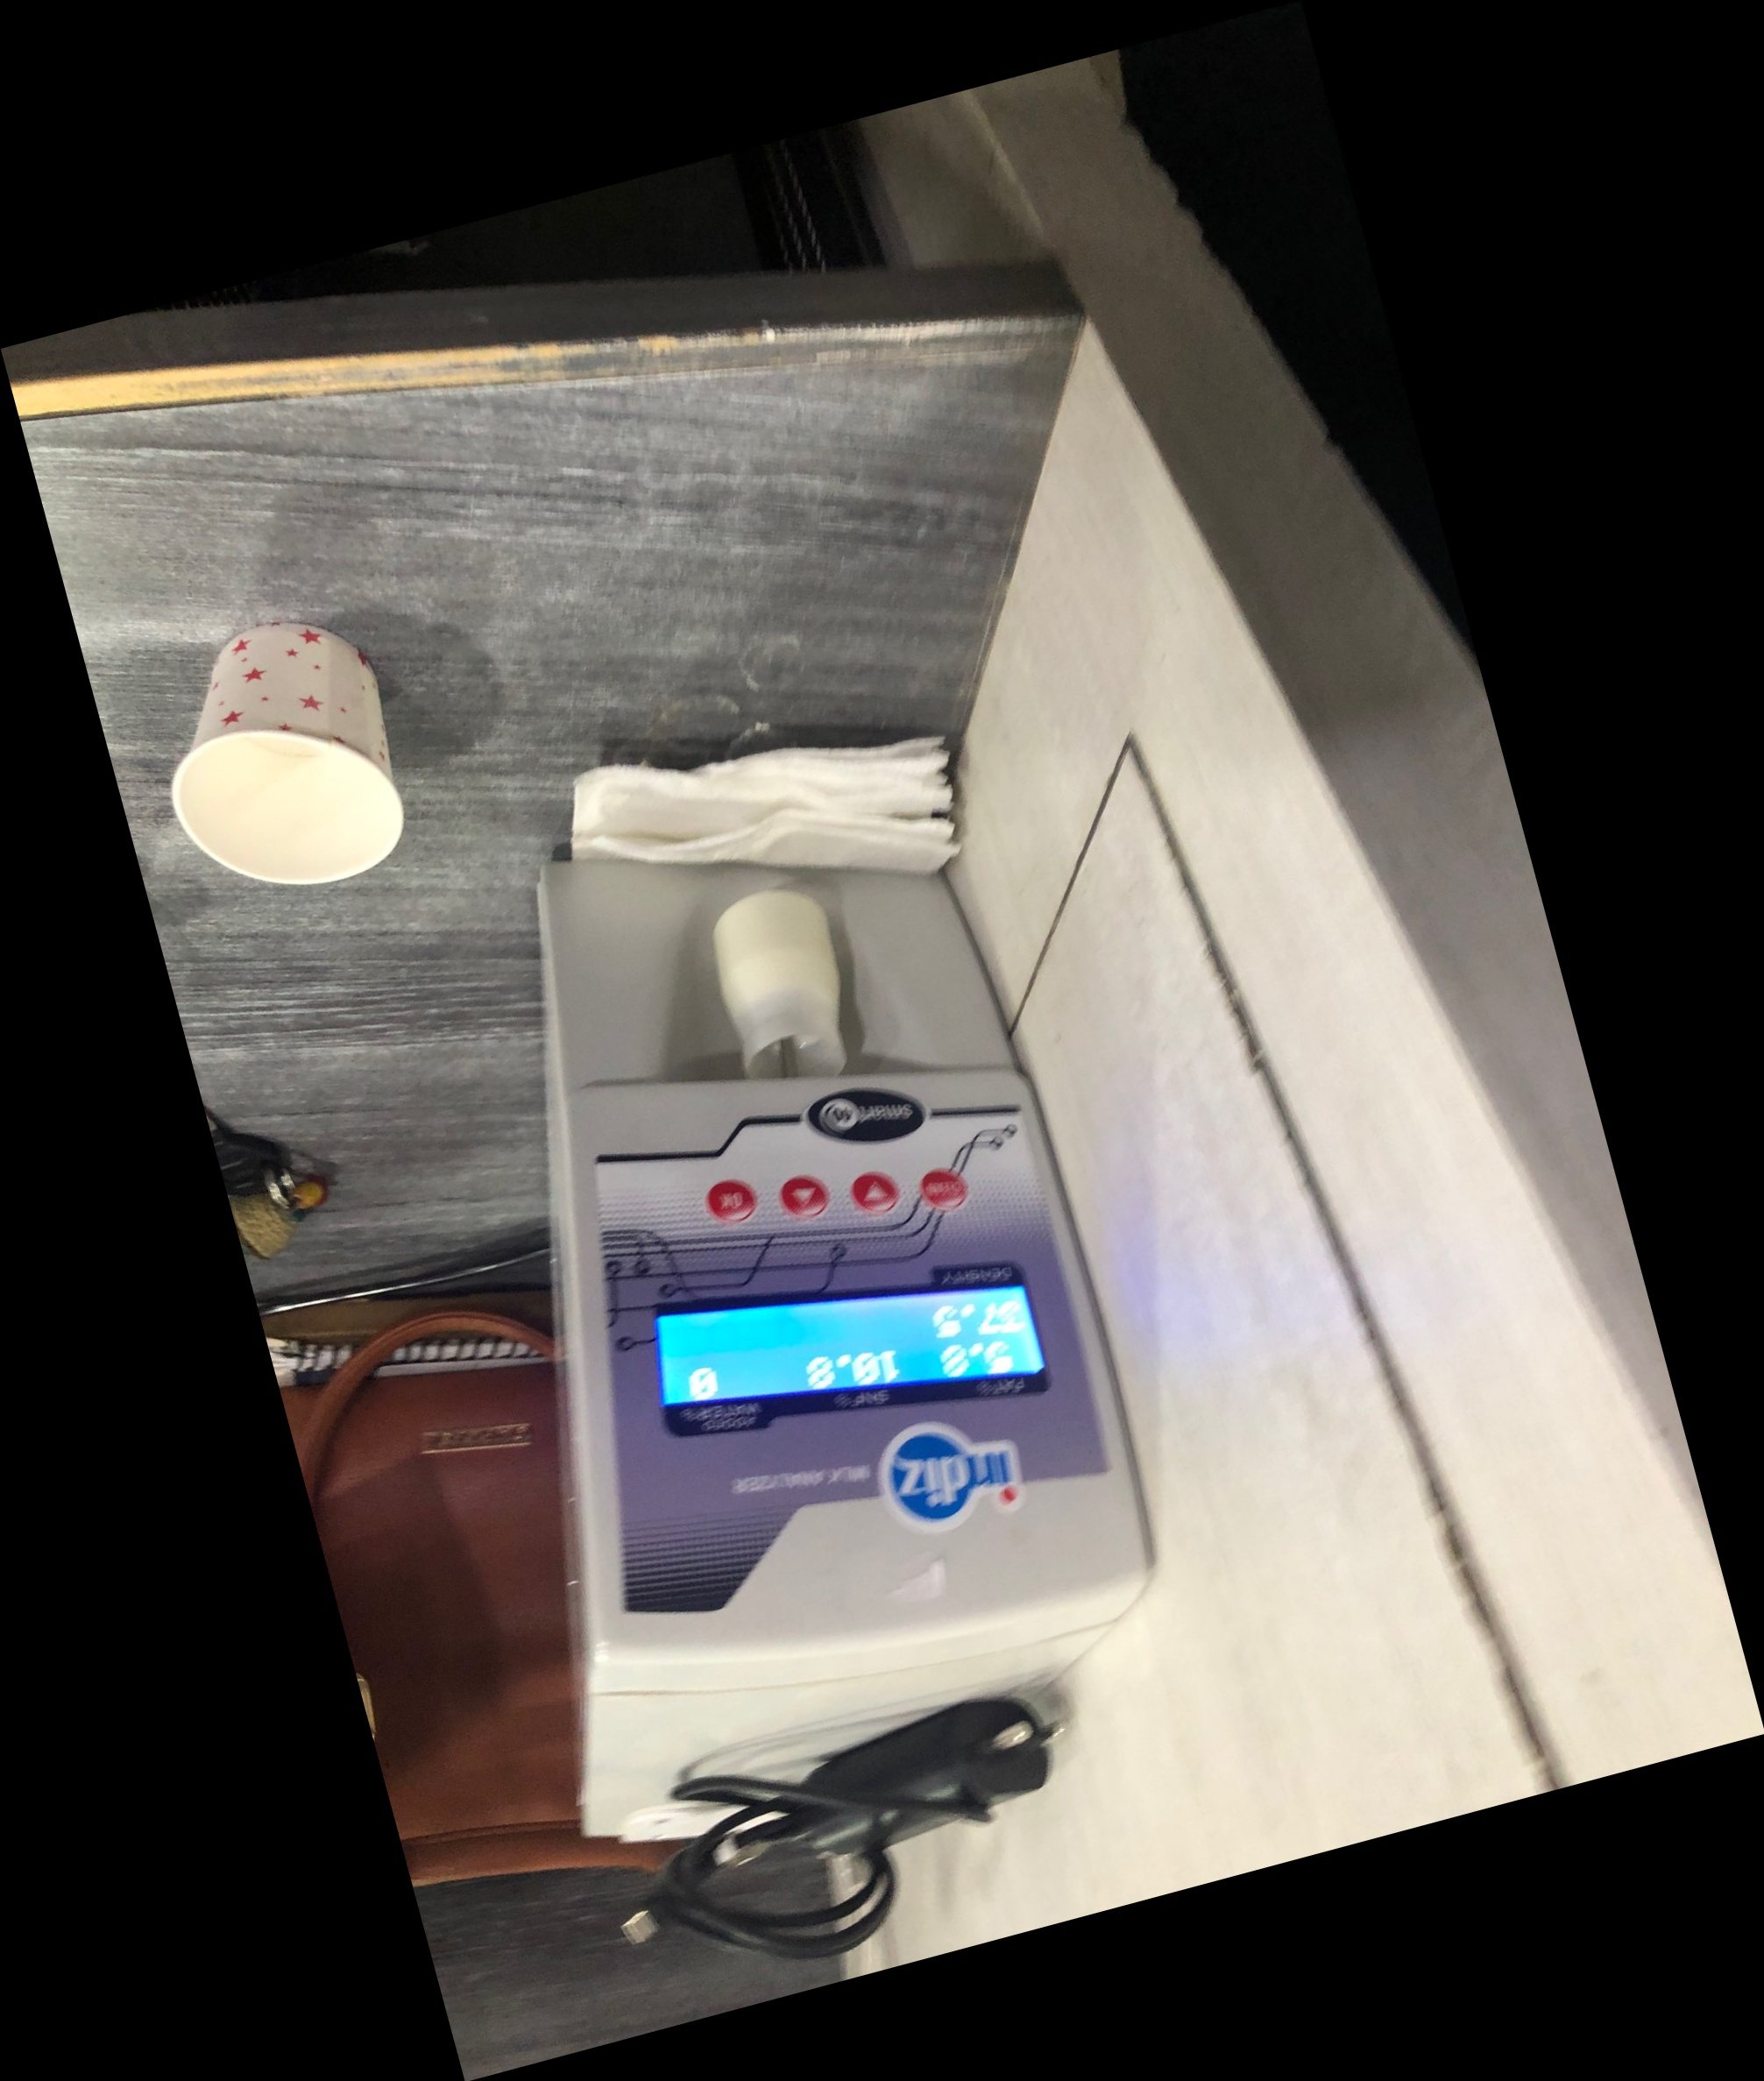lcd: (644, 1253, 1064, 1460)
